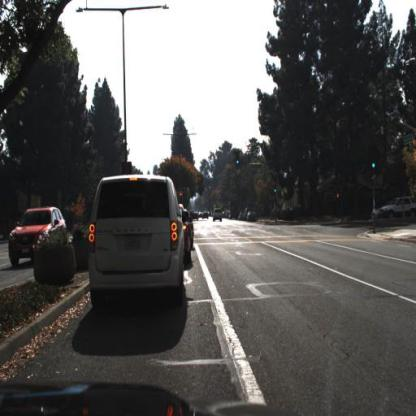car: (86, 172, 185, 310), (8, 204, 70, 266), (372, 188, 416, 226), (372, 193, 414, 221), (182, 206, 194, 270), (211, 204, 225, 226), (248, 206, 258, 222), (201, 209, 210, 218)
trafficLight-Green: (233, 146, 242, 168), (370, 150, 377, 170), (236, 151, 241, 169), (272, 179, 278, 194), (372, 156, 376, 177), (273, 186, 278, 200)
trafficLight-Red: (178, 189, 184, 203)
